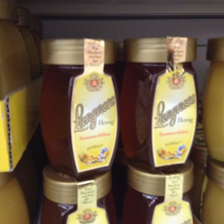honey: (31, 37, 119, 176), (122, 36, 198, 171)
